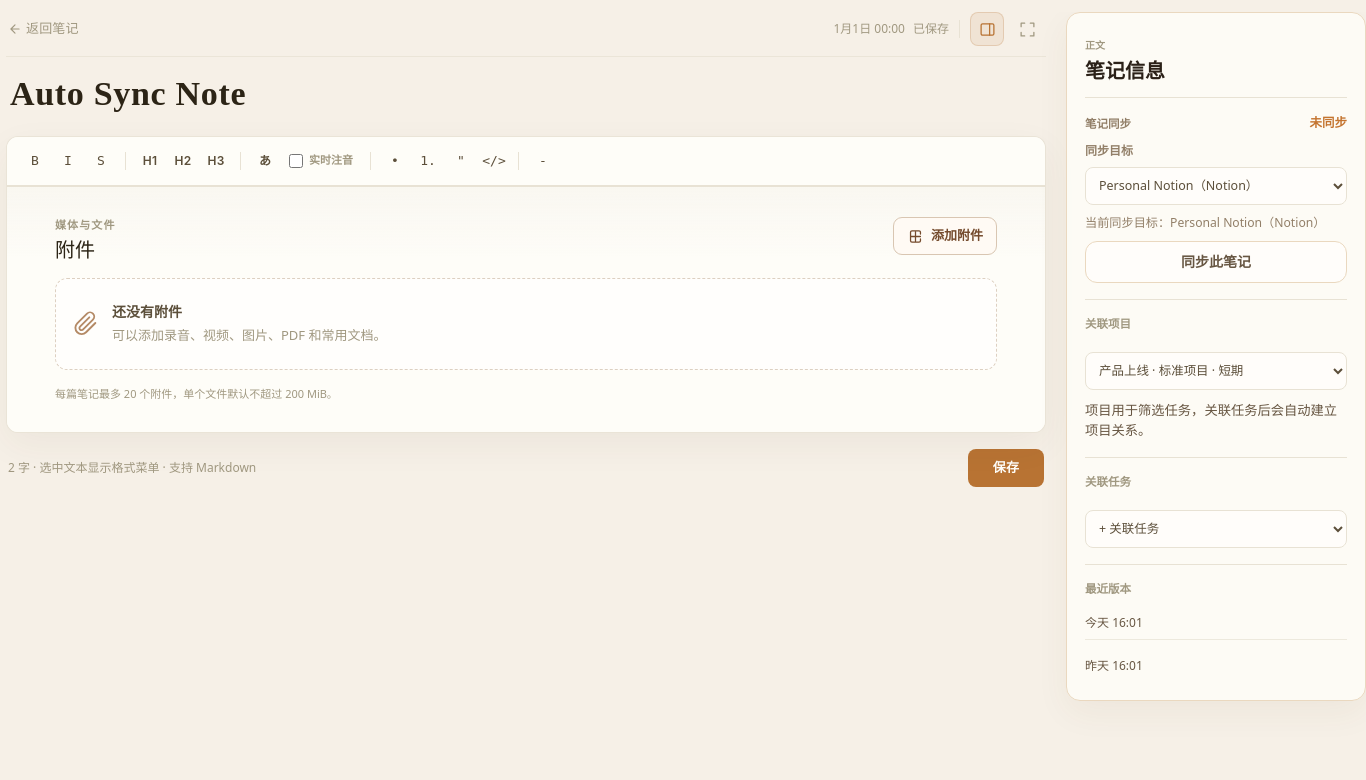
Test case: Editor auto sync › automatically adds furigana to the selected Japanese text
This screenshot has width=1366, height=780.
Expected: the field showing "Auto Sync Note" is shown, [6, 71, 1046, 122]
Click the button named "假名标注". click: [265, 160]
box: [249, 144, 281, 176]
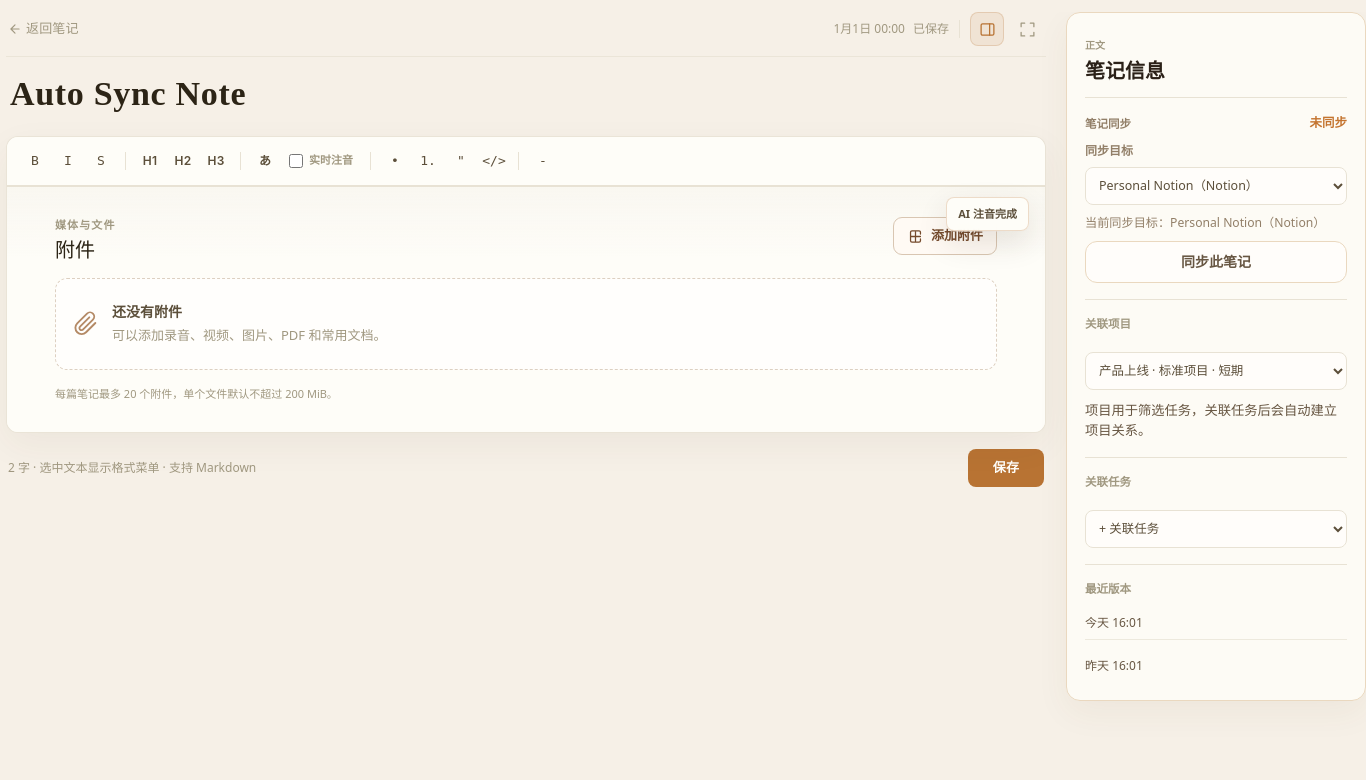
Now the message reads "AI 注音完成", box [958, 206, 1017, 220]
